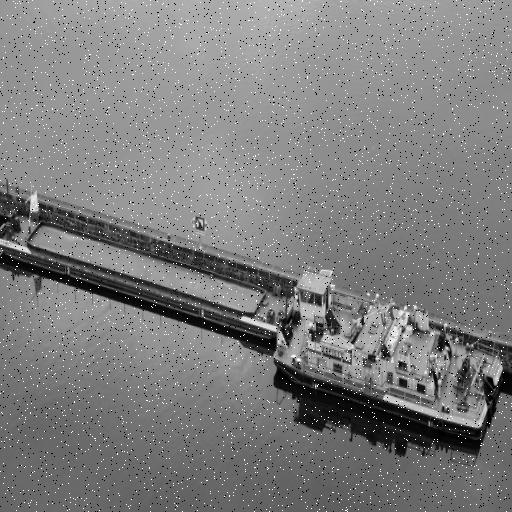tugboat: (271, 264, 510, 454)
